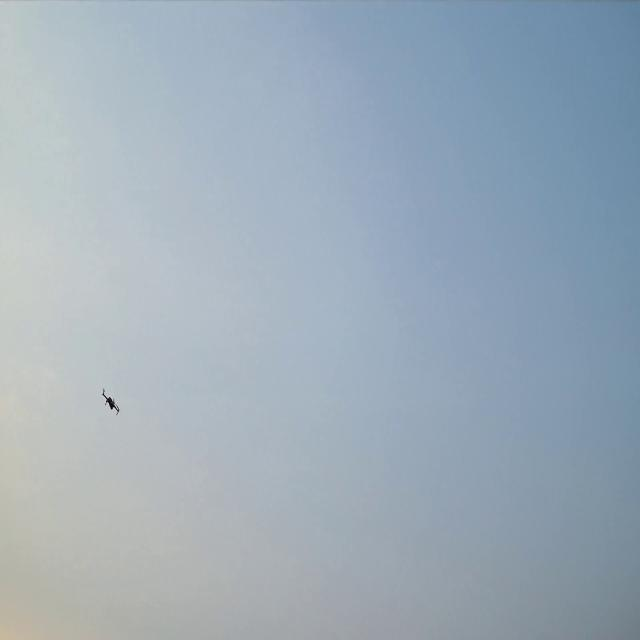UAV: (102, 391, 119, 414)
